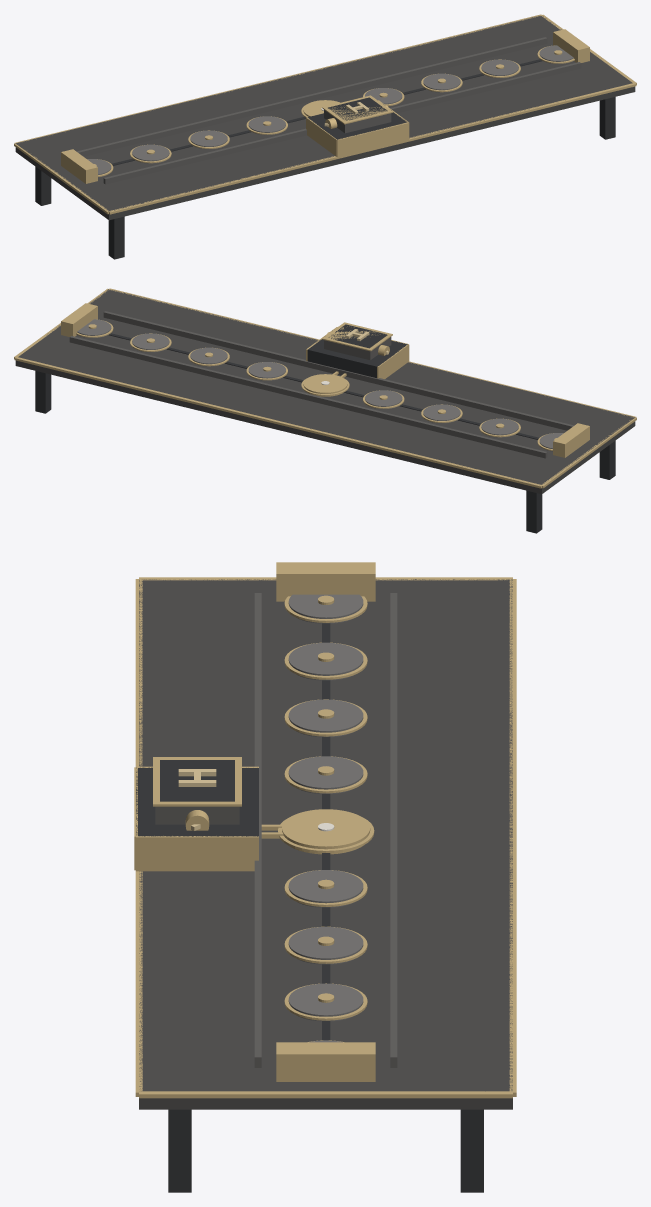
Rendered from workbench.glb.
The picture shows the model from 3 angles, top to bottom: view 1: azimuth 30°, elevation 25°; view 2: azimuth 150°, elevation 25°; view 3: azimuth 270°, elevation 25°; orthographic projection. The views are drawn at different scales.
Parts seen in each view (by area): view 1: Workbench_Base, Track_Rail_Left, Track_Rail_Right, Trim_Bar_Front, Coin_Trim_Front, Trim_Bar_Back, Support_Left, Coin_Gate_Bezel, Support_Right, Coin_Module, Leg_4, Leg_3 (+12 smaller); view 2: Workbench_Base, Track_Rail_Left, Track_Rail_Right, Trim_Bar_Back, Coin_Module, Support_Left, Trim_Bar_Front, Site_Center, Support_Right, Leg_2, Leg_1, Coin_Gate_Plate (+12 smaller); view 3: Workbench_Base, Coin_Trim_Right, Trim_Bar_Back, Support_Right, Track_Rail_Left, Support_Left, Coin_Module, Track_Rail_Right, Trim_Bar_Front, Trim_Bar_Right, Site_Center, Coin_Gate_Plate (+12 smaller).
Part boxes in pixels (box(x1,y1,x2,y2)): Workbench_Base: box(15, 16, 635, 220); Track_Rail_Left: box(76, 37, 547, 156); Track_Rail_Right: box(103, 62, 581, 184); Trim_Bar_Front: box(109, 83, 636, 214); Coin_Trim_Front: box(337, 122, 408, 156); Trim_Bar_Back: box(14, 14, 542, 143); Support_Left: box(61, 149, 97, 183); Coin_Gate_Bezel: box(322, 95, 392, 124); Support_Right: box(553, 29, 589, 62); Coin_Module: box(307, 104, 407, 139); Leg_4: box(599, 97, 615, 139); Leg_3: box(108, 216, 124, 259); Workbench_Base: box(15, 289, 635, 494); Track_Rail_Left: box(69, 336, 547, 458); Track_Rail_Right: box(103, 311, 574, 430); Trim_Bar_Back: box(14, 357, 542, 488); Coin_Module: box(307, 330, 407, 378); Support_Left: box(553, 423, 589, 457); Trim_Bar_Front: box(109, 288, 636, 417); Site_Center: box(303, 374, 347, 396); Support_Right: box(61, 303, 97, 336); Leg_2: box(35, 371, 51, 413); Leg_1: box(526, 490, 542, 533); Coin_Gate_Plate: box(328, 324, 387, 348); Workbench_Base: box(139, 579, 512, 1109); Coin_Trim_Right: box(136, 836, 258, 871); Trim_Bar_Back: box(509, 579, 516, 1096); Support_Right: box(276, 1042, 375, 1081); Track_Rail_Left: box(390, 593, 397, 1067); Support_Left: box(276, 562, 375, 601); Coin_Module: box(136, 767, 258, 836); Track_Rail_Right: box(254, 593, 261, 1067); Trim_Bar_Front: box(135, 579, 142, 1096); Trim_Bar_Right: box(139, 1091, 512, 1098); Site_Center: box(282, 809, 370, 854); Coin_Gate_Plate: box(160, 760, 234, 801).
Size of the model in its own units: 10.46 by 1.62 by 3.27.
